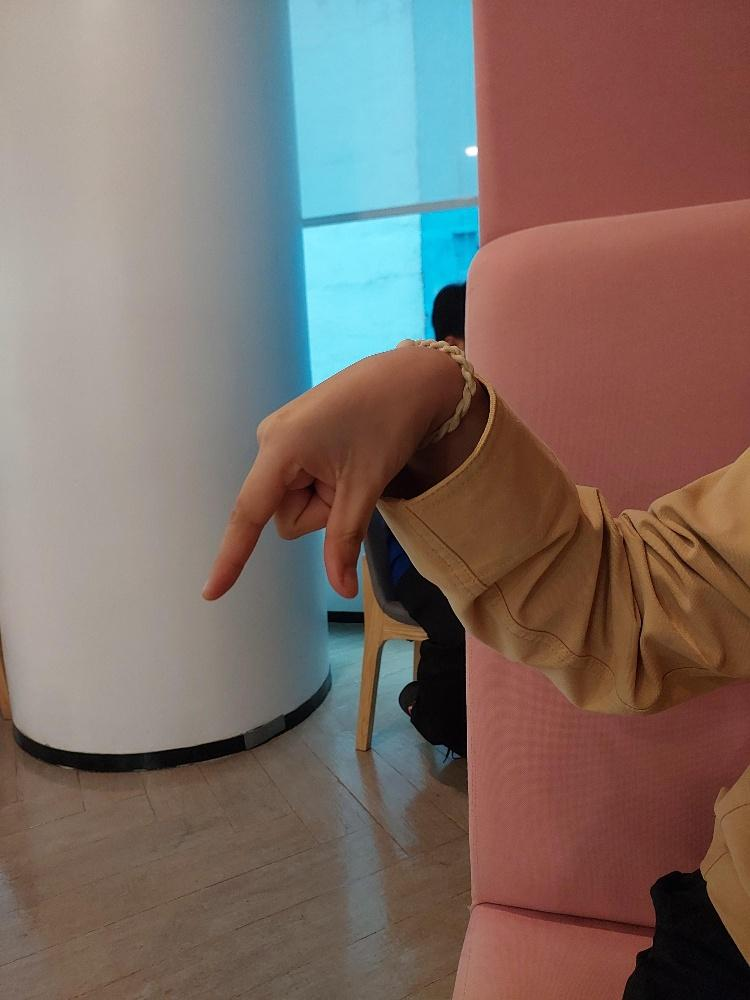q: (195, 330, 473, 602)
